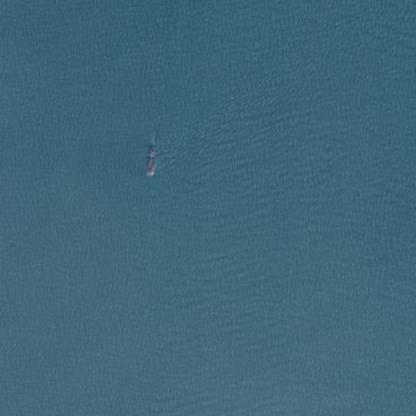ship: (139, 135, 160, 182)
